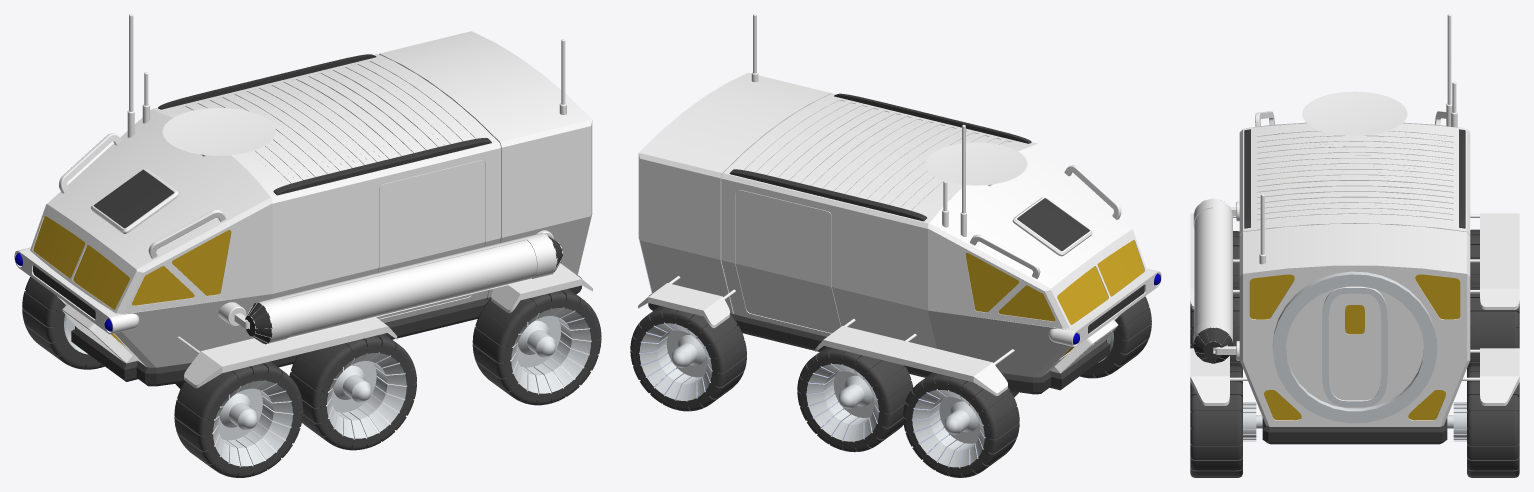
File: Cruiser.fbx
3 renders of one model, left to right at view 1: azimuth 30°, elevation 25°; view 2: azimuth 150°, elevation 25°; view 3: azimuth 270°, elevation 25°, orthographic. The views are drawn at different scales.
Parts seen in each view (by area): view 1: Mirror16 - Part 4, Mirror16 - Part 3, Mirror16 - Part 2, Mirror16 - Part 7, Mirror16 - Part 8, Mirror16 - Part 6, Mirror16 - Part 5, LPattern9 - Part 3, Mirror16 - Part 12; view 2: Mirror16 - Part 4, Mirror16 - Part 7, Mirror16 - Part 8, LPattern8 - Part 3, LPattern9 - Part 3, Mirror13 - Part 3, LPattern8 - Part 2, LPattern9 - Part 2, Mirror13 - Part 2, Mirror16 - Part 6, Mirror16 - Part 5, Mirror16 - Part 3 (+4 smaller); view 3: Mirror16 - Part 4, Mirror16 - Part 10, Mirror16 - Part 7, Mirror16 - Part 3, Mirror16 - Part 11, LPattern8 - Part 3, Mirror16 - Part 5, Mirror13 - Part 3, Mirror16 - Part 6, Mirror16 - Part 12, LPattern8 - Part 2, Mirror16 - Part 2 (+1 smaller).
Part boxes in pixels (x1=…): Mirror16 - Part 4: x1=14, y1=14, x2=592, y2=467; Mirror16 - Part 3: x1=174, y1=288, x2=601, y2=477; Mirror16 - Part 2: x1=213, y1=308, x2=591, y2=466; Mirror16 - Part 7: x1=117, y1=263, x2=581, y2=387; Mirror16 - Part 8: x1=33, y1=216, x2=230, y2=346; Mirror16 - Part 6: x1=33, y1=54, x2=562, y2=344; Mirror16 - Part 5: x1=71, y1=275, x2=581, y2=386; LPattern9 - Part 3: x1=22, y1=277, x2=104, y2=369; Mirror16 - Part 12: x1=273, y1=138, x2=491, y2=195; Mirror16 - Part 4: x1=638, y1=14, x2=1161, y2=395; Mirror16 - Part 7: x1=648, y1=283, x2=1007, y2=395; Mirror16 - Part 8: x1=965, y1=240, x2=1144, y2=357; LPattern8 - Part 3: x1=630, y1=306, x2=746, y2=411; LPattern9 - Part 3: x1=903, y1=372, x2=1019, y2=477; Mirror13 - Part 3: x1=797, y1=346, x2=913, y2=452; LPattern8 - Part 2: x1=639, y1=323, x2=711, y2=400; LPattern9 - Part 2: x1=912, y1=390, x2=984, y2=467; Mirror13 - Part 2: x1=806, y1=364, x2=878, y2=441; Mirror16 - Part 6: x1=729, y1=169, x2=1144, y2=333; Mirror16 - Part 5: x1=648, y1=293, x2=1110, y2=394; Mirror16 - Part 3: x1=1080, y1=296, x2=1151, y2=378; Mirror16 - Part 4: x1=1190, y1=14, x2=1519, y2=426; Mirror16 - Part 10: x1=1272, y1=271, x2=1437, y2=423; Mirror16 - Part 7: x1=1190, y1=213, x2=1519, y2=405; Mirror16 - Part 3: x1=1190, y1=231, x2=1242, y2=477; Mirror16 - Part 11: x1=1249, y1=274, x2=1460, y2=420; LPattern8 - Part 3: x1=1467, y1=366, x2=1519, y2=477; Mirror16 - Part 5: x1=1262, y1=417, x2=1447, y2=444; Mirror13 - Part 3: x1=1467, y1=282, x2=1519, y2=369; Mirror16 - Part 6: x1=1193, y1=129, x2=1465, y2=363; Mirror16 - Part 12: x1=1244, y1=129, x2=1250, y2=228; LPattern8 - Part 2: x1=1447, y1=402, x2=1466, y2=441; Mirror16 - Part 2: x1=1243, y1=402, x2=1262, y2=441.
Size of the model in its own units: 776 by 555 by 500.
